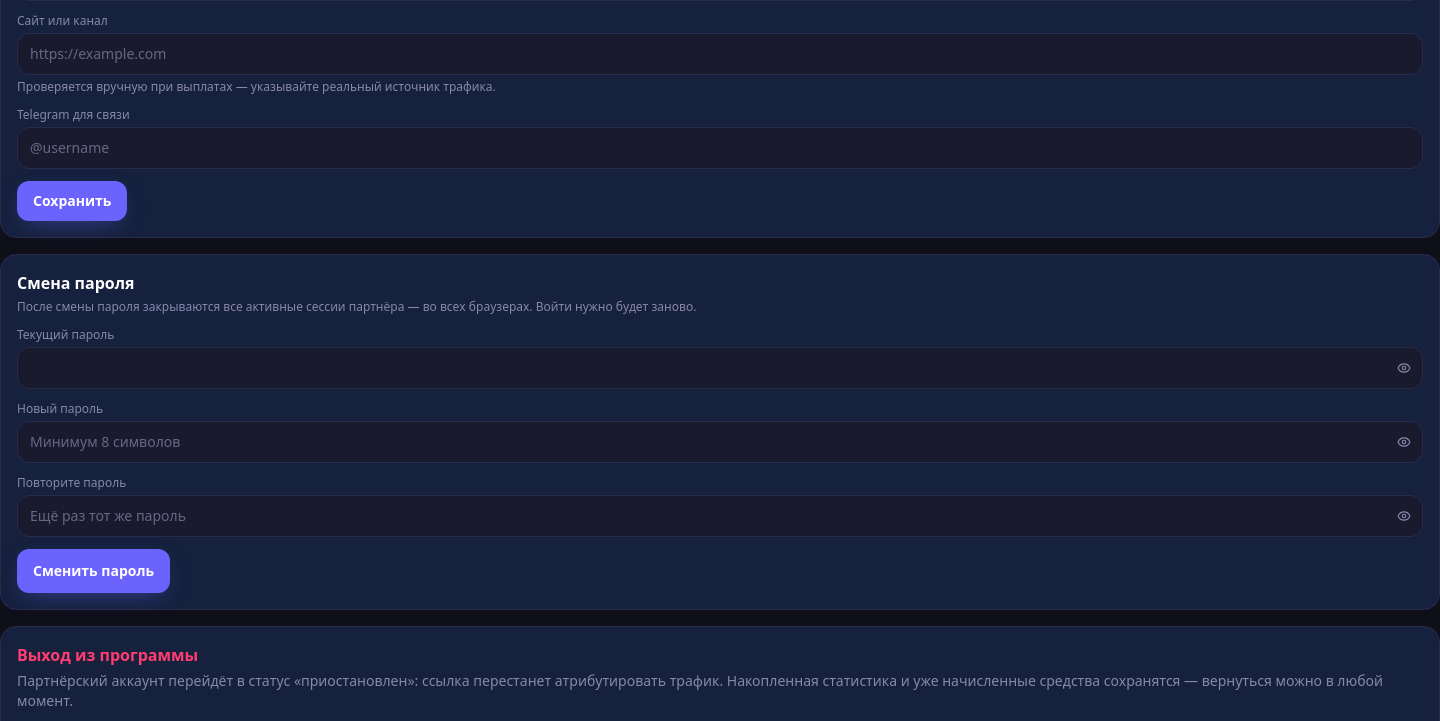
смена пароля в кабинете /affiliate/settings › пустой текущий пароль отсекается до запроса
(page scrolled)
Step 1. Type "New2pass" into the password field labelled "Новый пароль" → (720, 442), box [17, 421, 1423, 463]
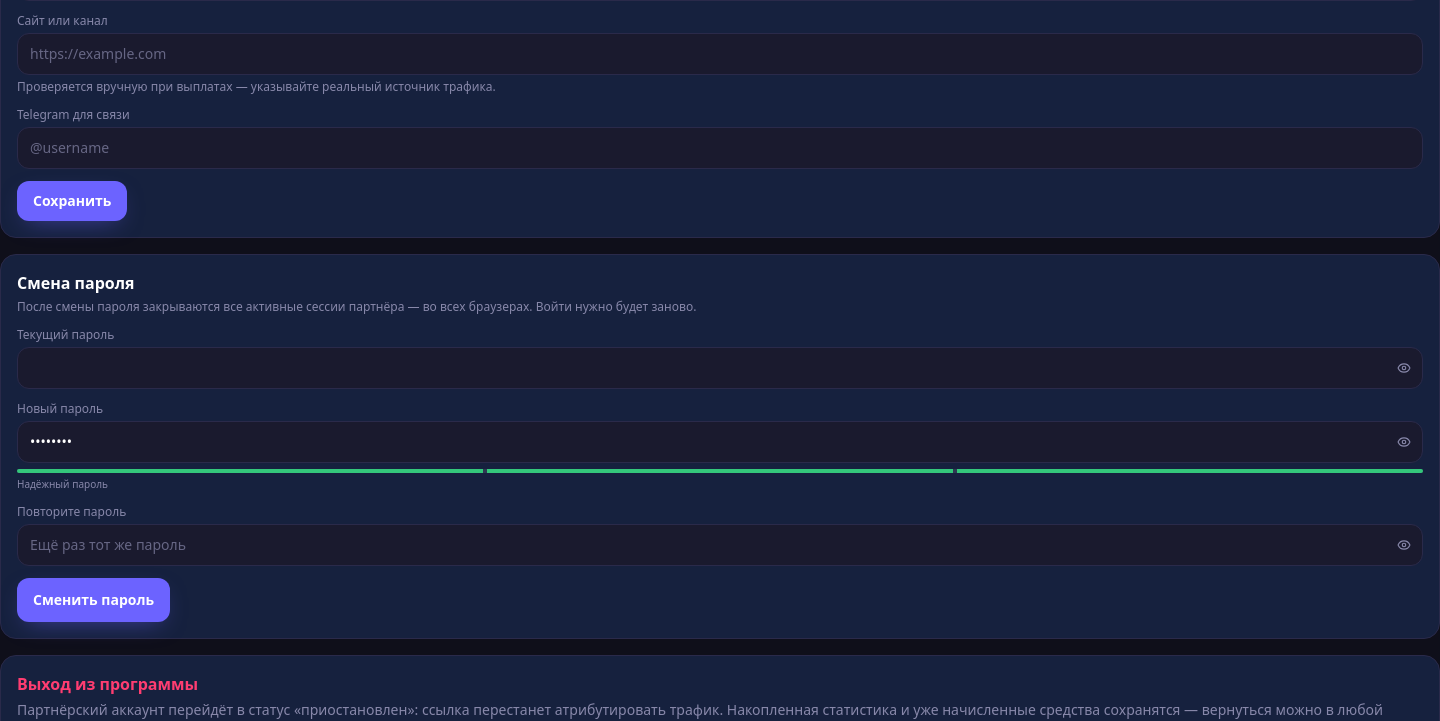
Step 2. Type "New2pass" into the password field labelled "Повторите пароль" → (720, 545), box [17, 524, 1423, 566]
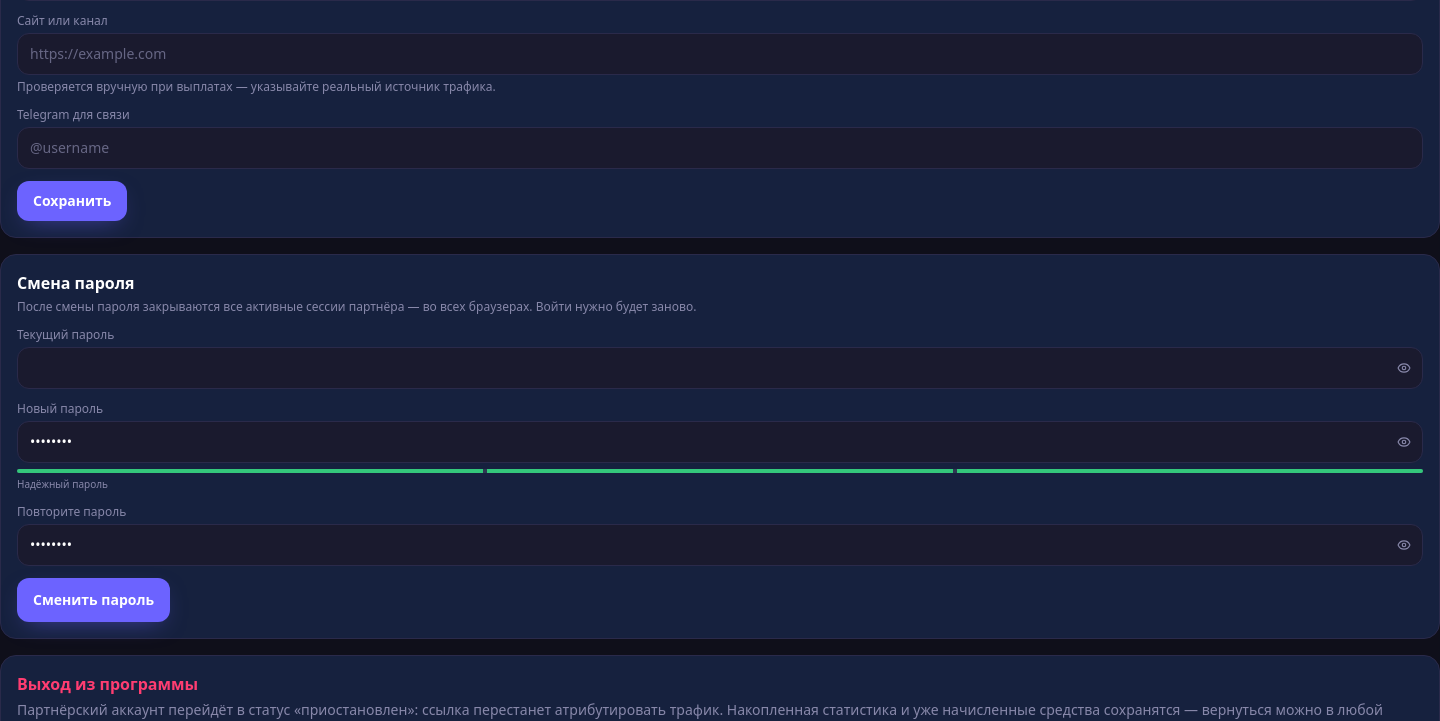
Step 3. Click the button "Сменить пароль" → click(94, 600), box [17, 578, 170, 622]
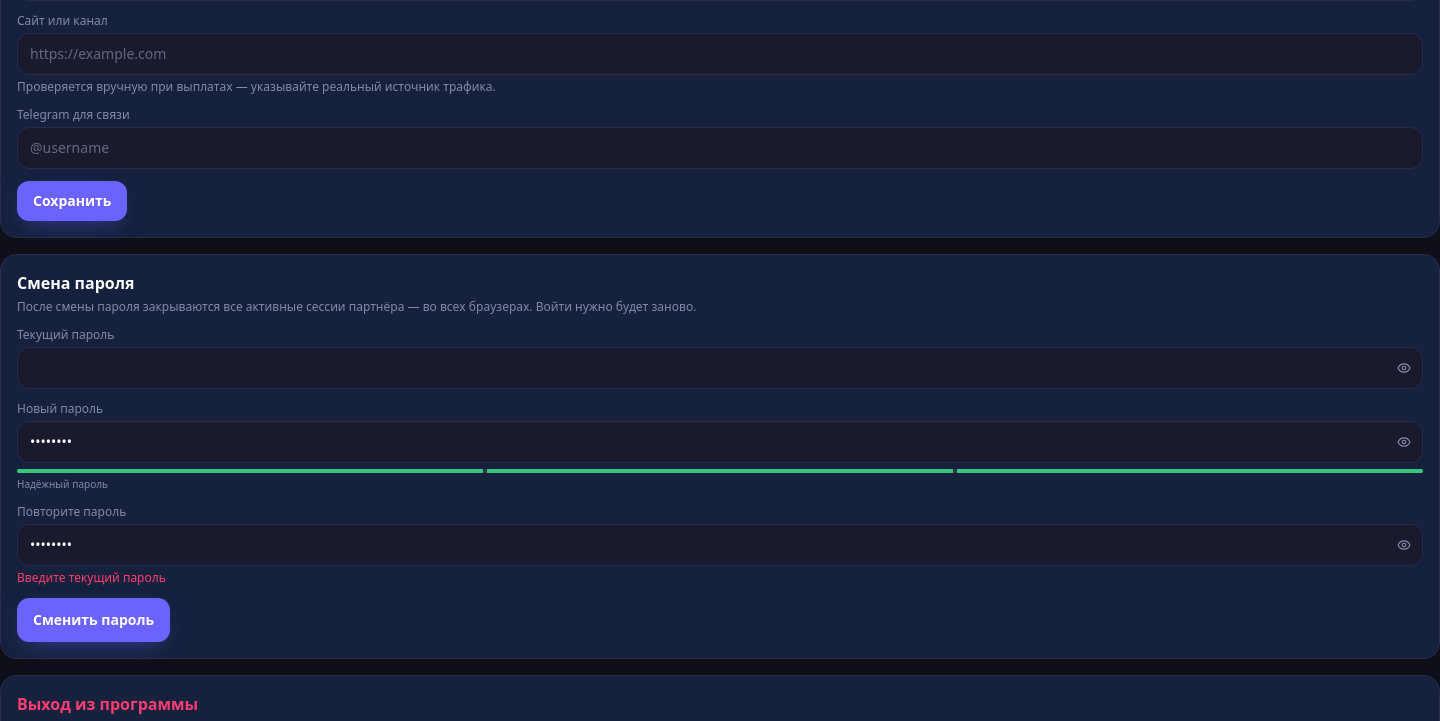
Now the message reads "Введите текущий пароль", box [17, 569, 166, 586]
